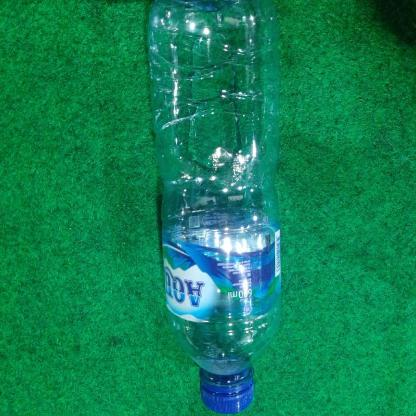Plastic Bottle: (127, 2, 303, 408)
